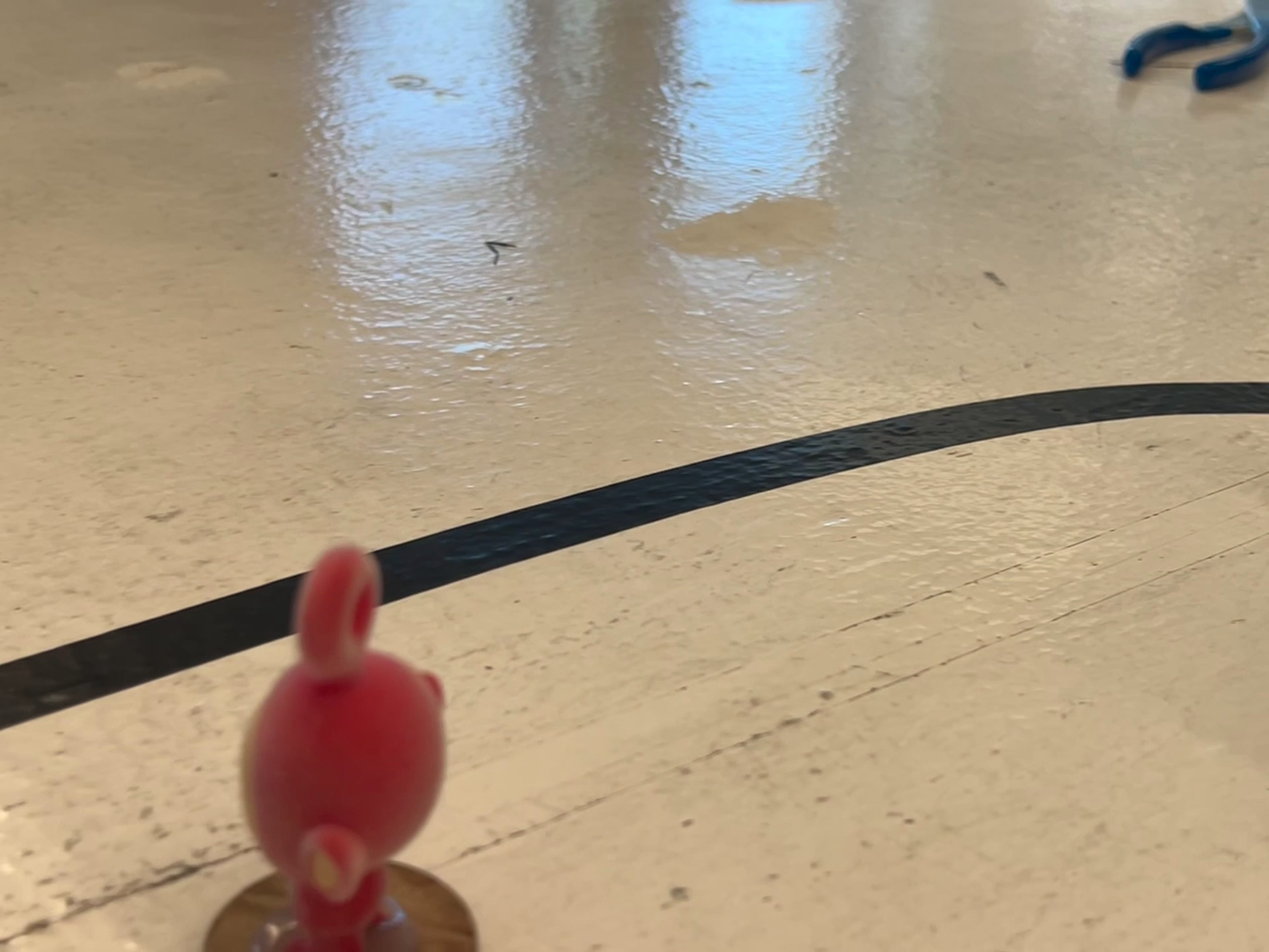teletubby: (241, 546, 445, 951)
